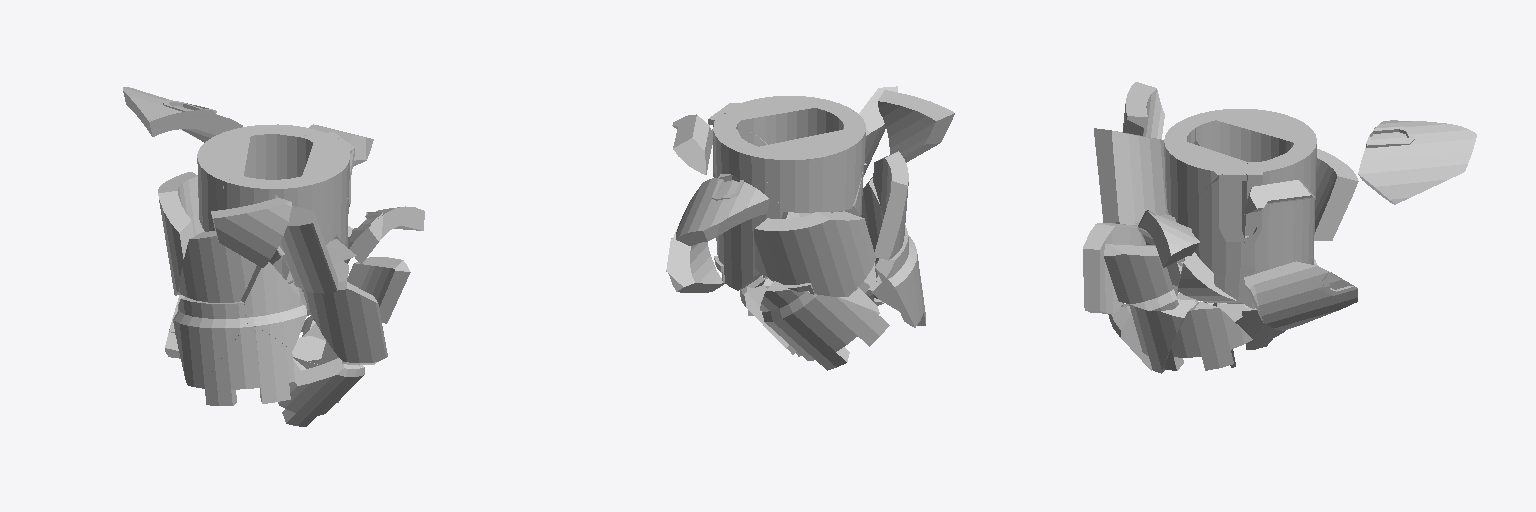
File: destruction_tower_000043.obj
3 renders of one model, left to right at view 1: azimuth 30°, elevation 25°; view 2: azimuth 150°, elevation 25°; view 3: azimuth 270°, elevation 25°, orthographic.
Visible parts, largest first — view 1: tower.001_cell.006_Mesh.006, tower.001_cell.021_Mesh.021, tower.001_cell.005_Mesh.005, tower.001_cell.028_Mesh.028, tower.001_cell.009_Mesh.009, tower.001_cell.002_Mesh.002, tower.001_cell.013_Mesh.013, tower.001_cell.011_Mesh.011, tower.001_cell.024_Mesh.024, tower.001_cell.025_Mesh.025, tower.001_cell.015_Mesh.015, tower.001_cell.003_Mesh.003 (+7 smaller); view 2: tower.001_cell.003_Mesh.003, tower.001_cell.015_Mesh.015, tower.001_cell.007_Mesh.007, tower.001_cell.017_Mesh.017, tower.001_cell.025_Mesh.025, tower.001_cell.028_Mesh.028, tower.001_cell.002_Mesh.002, tower.001_cell.009_Mesh.009, tower.001_cell.005_Mesh.005, tower.001_cell.012_Mesh.012, tower.001_cell.016_Mesh.016, tower.001_cell.013_Mesh.013 (+3 smaller); view 3: tower.001_cell.025_Mesh.025, tower.001_cell.024_Mesh.024, tower.001_cell.012_Mesh.012, tower.001_cell.020_Mesh.020, tower.001_cell.017_Mesh.017, tower.001_cell.015_Mesh.015, tower.001_cell.028_Mesh.028, tower.001_cell_Mesh, tower.001_cell.030_Mesh.030, tower.001_cell.021_Mesh.021, tower.001_cell.003_Mesh.003, tower.001_cell.023_Mesh.023 (+9 smaller).
Boxes of the visible parts, x1=… form: tower.001_cell.006_Mesh.006: x1=202, y1=325, x2=294, y2=405; tower.001_cell.021_Mesh.021: x1=302, y1=281, x2=387, y2=365; tower.001_cell.005_Mesh.005: x1=173, y1=297, x2=247, y2=387; tower.001_cell.028_Mesh.028: x1=270, y1=143, x2=354, y2=244; tower.001_cell.009_Mesh.009: x1=179, y1=231, x2=256, y2=302; tower.001_cell.002_Mesh.002: x1=211, y1=198, x2=291, y2=267; tower.001_cell.013_Mesh.013: x1=241, y1=262, x2=306, y2=350; tower.001_cell.011_Mesh.011: x1=278, y1=358, x2=364, y2=426; tower.001_cell.024_Mesh.024: x1=277, y1=206, x2=337, y2=293; tower.001_cell.025_Mesh.025: x1=123, y1=87, x2=242, y2=142; tower.001_cell.015_Mesh.015: x1=197, y1=130, x2=250, y2=231; tower.001_cell.003_Mesh.003: x1=158, y1=172, x2=204, y2=295; tower.001_cell.003_Mesh.003: x1=754, y1=211, x2=875, y2=296; tower.001_cell.015_Mesh.015: x1=754, y1=129, x2=863, y2=212; tower.001_cell.007_Mesh.007: x1=760, y1=281, x2=889, y2=370; tower.001_cell.017_Mesh.017: x1=713, y1=123, x2=787, y2=290; tower.001_cell.025_Mesh.025: x1=676, y1=174, x2=769, y2=245; tower.001_cell.028_Mesh.028: x1=730, y1=96, x2=853, y2=144; tower.001_cell.002_Mesh.002: x1=878, y1=90, x2=954, y2=162; tower.001_cell.009_Mesh.009: x1=873, y1=151, x2=908, y2=260; tower.001_cell.005_Mesh.005: x1=872, y1=225, x2=922, y2=327; tower.001_cell.012_Mesh.012: x1=666, y1=227, x2=724, y2=292; tower.001_cell.016_Mesh.016: x1=672, y1=114, x2=712, y2=174; tower.001_cell.013_Mesh.013: x1=861, y1=177, x2=882, y2=295; tower.001_cell.025_Mesh.025: x1=1358, y1=120, x2=1476, y2=204; tower.001_cell.024_Mesh.024: x1=1094, y1=128, x2=1168, y2=225; tower.001_cell.012_Mesh.012: x1=1244, y1=261, x2=1357, y2=330; tower.001_cell.020_Mesh.020: x1=1175, y1=169, x2=1246, y2=274; tower.001_cell.017_Mesh.017: x1=1268, y1=140, x2=1316, y2=269; tower.001_cell.015_Mesh.015: x1=1216, y1=109, x2=1316, y2=161; tower.001_cell.028_Mesh.028: x1=1164, y1=126, x2=1248, y2=216; tower.001_cell_Mesh: x1=1104, y1=244, x2=1178, y2=310; tower.001_cell.030_Mesh.030: x1=1164, y1=301, x2=1252, y2=370; tower.001_cell.021_Mesh.021: x1=1083, y1=223, x2=1155, y2=313; tower.001_cell.003_Mesh.003: x1=1314, y1=149, x2=1358, y2=240; tower.001_cell.023_Mesh.023: x1=1129, y1=293, x2=1198, y2=373.
Bounding box in the file's own units: 74.21 × 74.08 × 110.